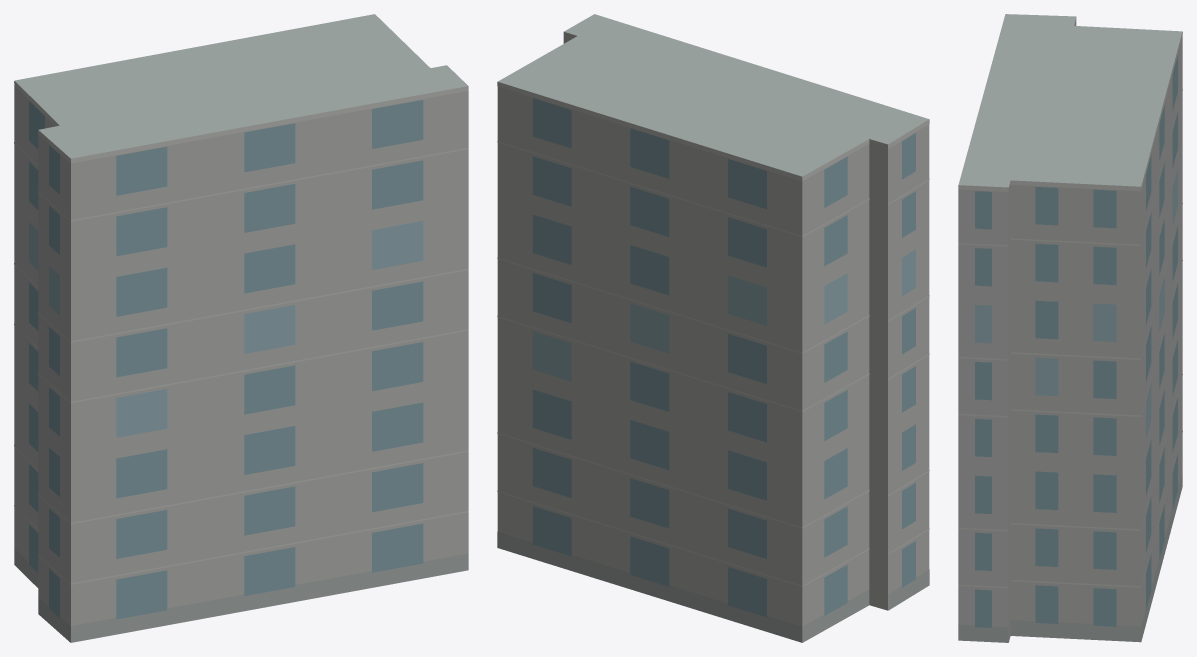
Rendered from survey-upis-32575541.glb.
3 views of the same model, side by side, from view 1: azimuth 30°, elevation 25°; view 2: azimuth 150°, elevation 25°; view 3: azimuth 270°, elevation 25° (orthographic). The views are drawn at different scales.
Parts seen in each view (by area): view 1: survey-upis-32575541.tmp; view 2: survey-upis-32575541.tmp; view 3: survey-upis-32575541.tmp.
Boxes of the visible parts, x1,y1,x2,y2 form: survey-upis-32575541.tmp: (14, 14, 468, 642); survey-upis-32575541.tmp: (497, 14, 929, 642); survey-upis-32575541.tmp: (958, 14, 1182, 642).
Bounding box in the file's own units: 19.96 × 24.4 × 10.91.
